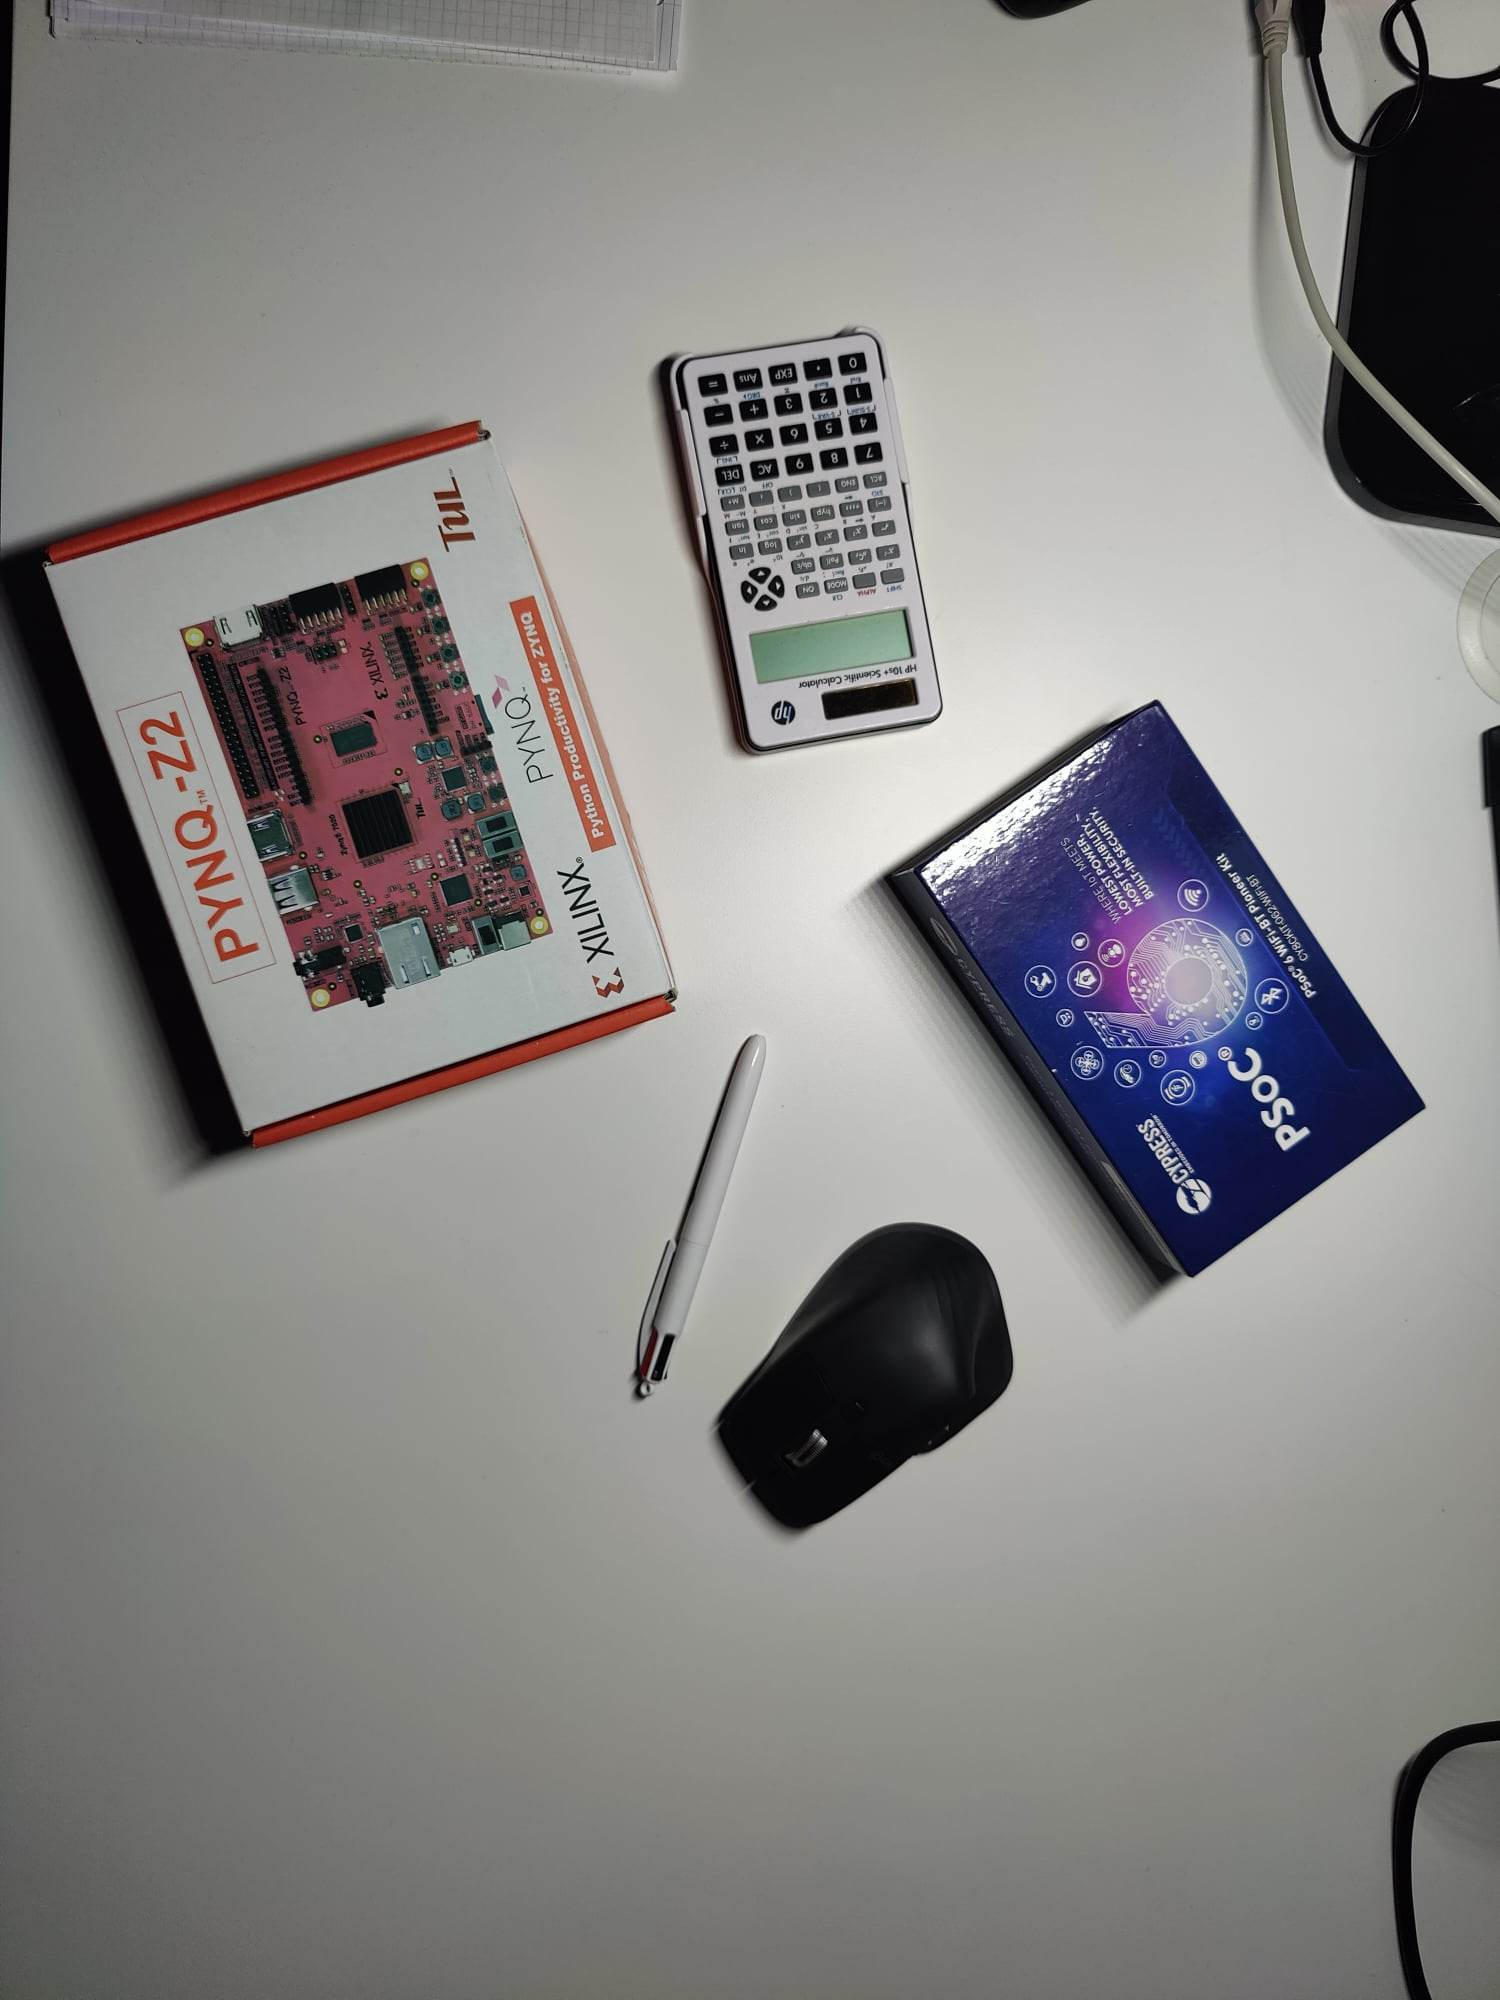Muis: (706, 1209, 1049, 1546)
PSoC_6: (862, 687, 1462, 1287)
PYNQ doos: (35, 409, 696, 1162)
Pen: (607, 1006, 785, 1417)
Rekenmachine: (662, 337, 950, 753)
